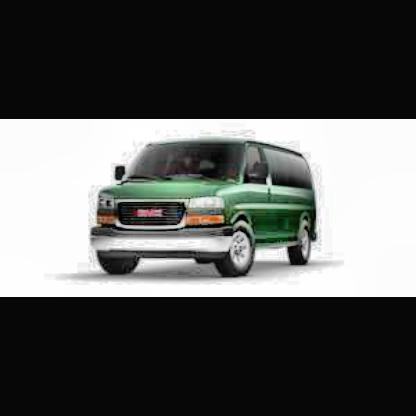GMC Savana Van 2012: (91, 139, 322, 279)
